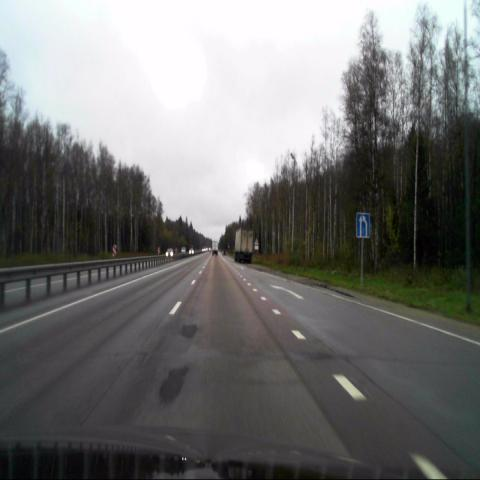5_15_5: (356, 212, 370, 236)
